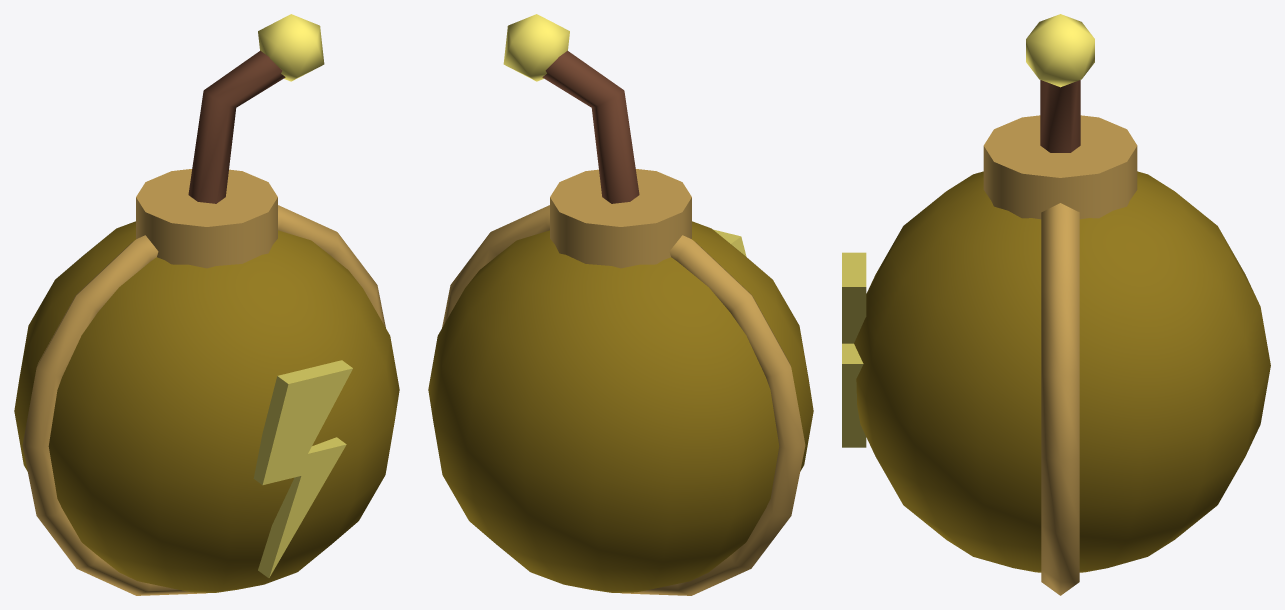
File: thunder_bomb.fbx
3 views of the same model, side by side, from view 1: azimuth 30°, elevation 25°; view 2: azimuth 150°, elevation 25°; view 3: azimuth 270°, elevation 25° (orthographic). The views are drawn at different scales.
Parts seen in each view (by area): view 1: thunder_bomb; view 2: thunder_bomb; view 3: thunder_bomb.
Boxes of the visible parts, <box> form: thunder_bomb: <box>14,14,399,595</box>; thunder_bomb: <box>428,14,813,595</box>; thunder_bomb: <box>842,14,1270,595</box>.
Size of the model in its own units: 0.57 by 0.825 by 0.53.
